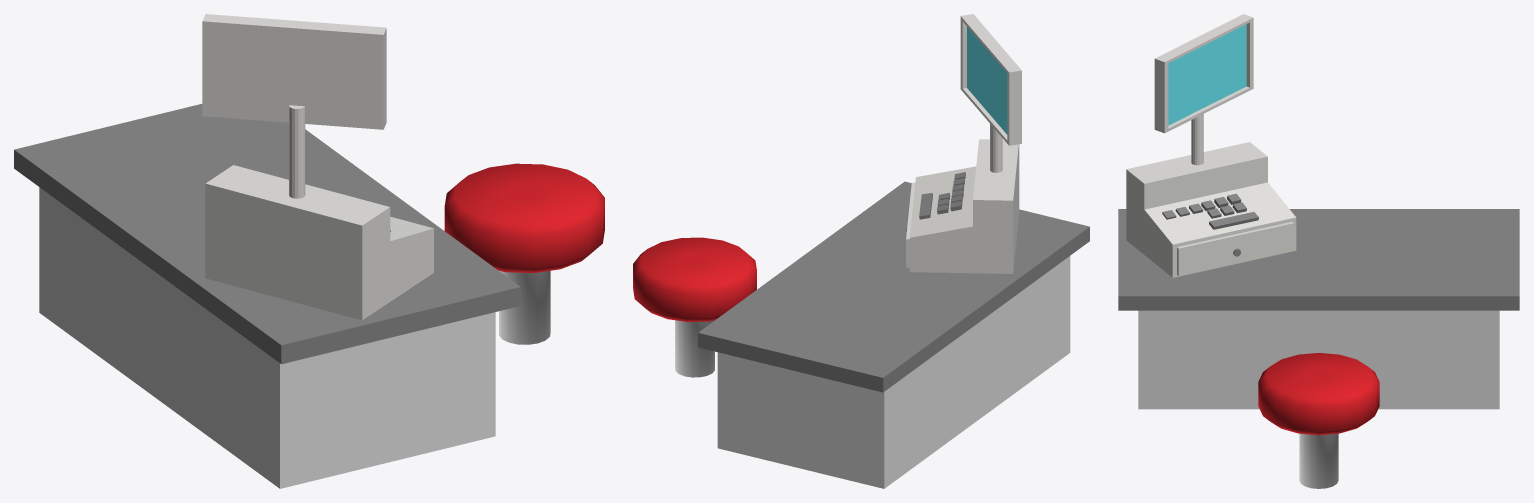
The model's file is cash.fbx.
3 views of the same model, side by side, from view 1: azimuth 30°, elevation 25°; view 2: azimuth 150°, elevation 25°; view 3: azimuth 270°, elevation 25° (orthographic). The views are drawn at different scales.
Visible parts, largest first — view 1: table, cash, stool; view 2: table, cash, stool; view 3: table, cash, stool.
Boxes of the visible parts, x1,y1,x2,y2 form: table: (14, 104, 520, 488); cash: (202, 14, 433, 320); stool: (444, 163, 604, 344); table: (698, 181, 1089, 488); cash: (906, 14, 1021, 273); stool: (633, 237, 756, 377); table: (1118, 209, 1519, 409); cash: (1126, 14, 1296, 277); stool: (1258, 353, 1379, 488).
Size of the model in its own units: 253 by 262 by 238.
